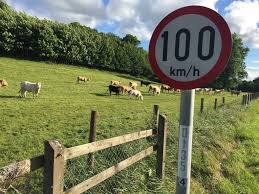Speed_limit_100km: (147, 6, 232, 89)
